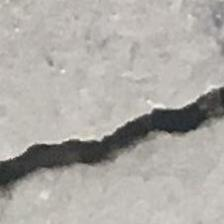Crack: (4, 80, 224, 224)
